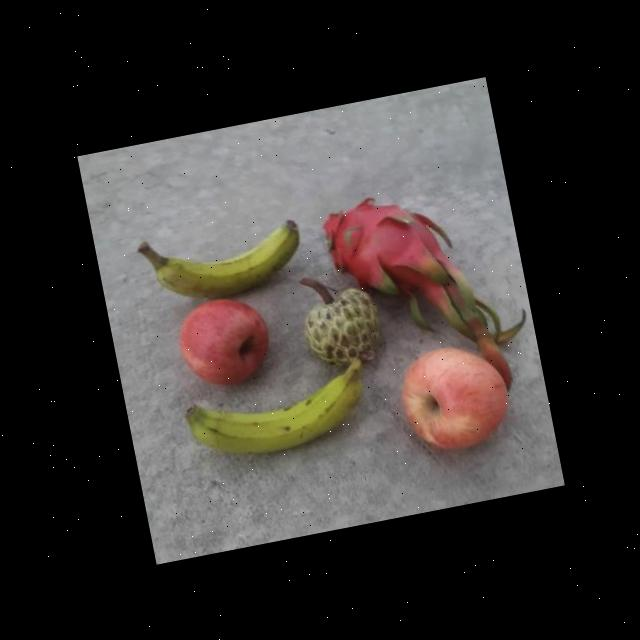Sakya fruit: (294, 276, 394, 371)
apple: (389, 334, 518, 460), (166, 288, 278, 396)
banana: (172, 354, 377, 472), (134, 212, 309, 312)
pitaya: (309, 174, 462, 310)
